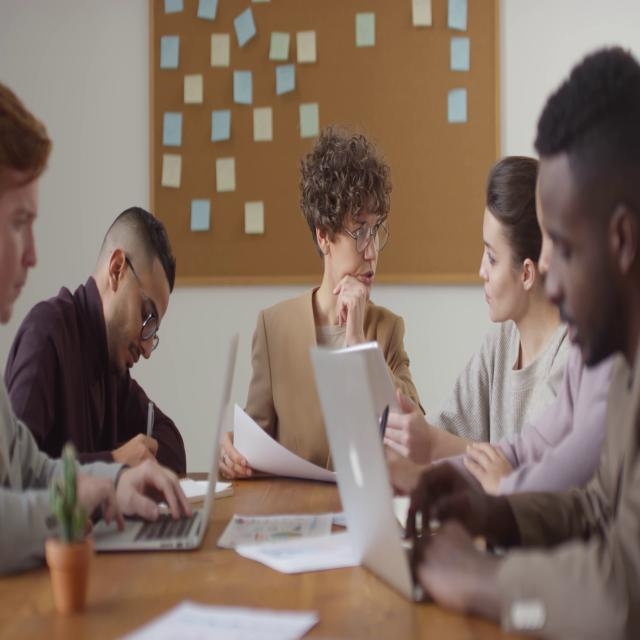not-gloved: (405, 461, 509, 549), (116, 457, 192, 523), (381, 388, 432, 466), (462, 439, 512, 494), (332, 272, 368, 346), (218, 430, 253, 480)
